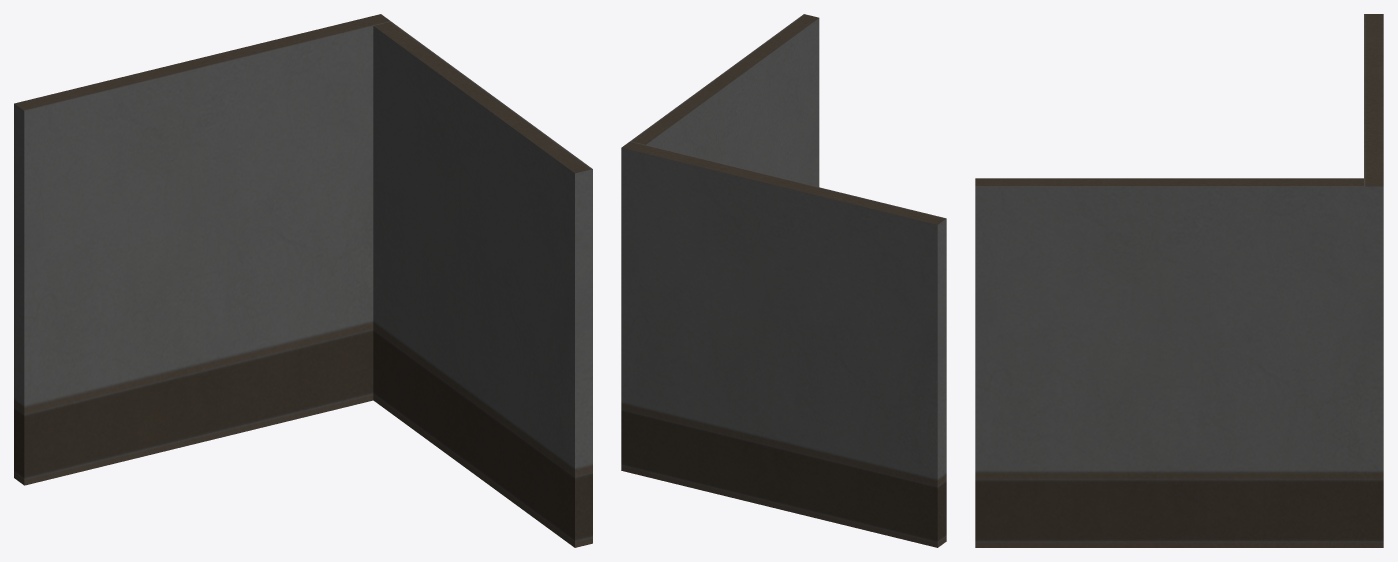
The model's file is Wall_7_Corner_A.fbx.
3 views of the same model, side by side, from view 1: azimuth 30°, elevation 25°; view 2: azimuth 150°, elevation 25°; view 3: azimuth 270°, elevation 25° (orthographic). The views are drawn at different scales.
Parts seen in each view (by area): view 1: polySurface45; view 2: polySurface45; view 3: polySurface45.
Part boxes in pixels (x1,y1,x2,y2): polySurface45: [14, 14, 592, 547]; polySurface45: [621, 14, 946, 547]; polySurface45: [975, 14, 1383, 547].
Bounding box in the file's own units: 4.1 × 4 × 4.1.
